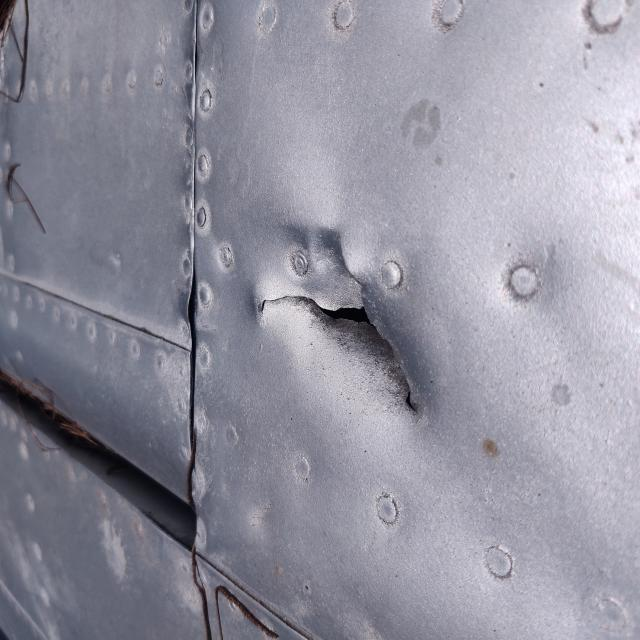crack: (170, 224, 428, 448)
